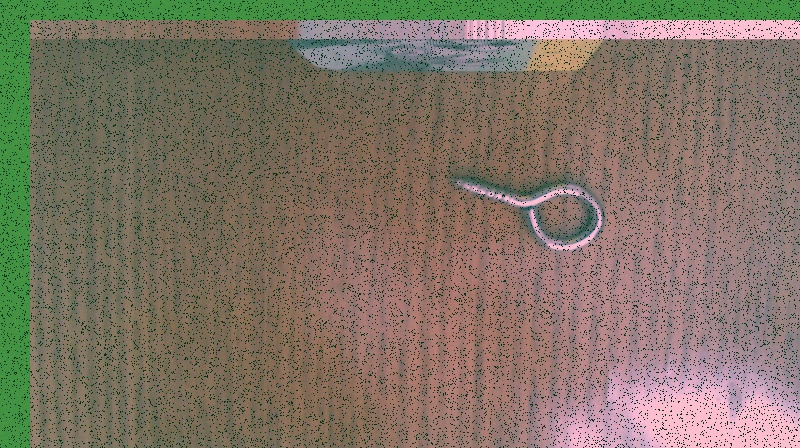O001: (442, 162, 612, 253)
